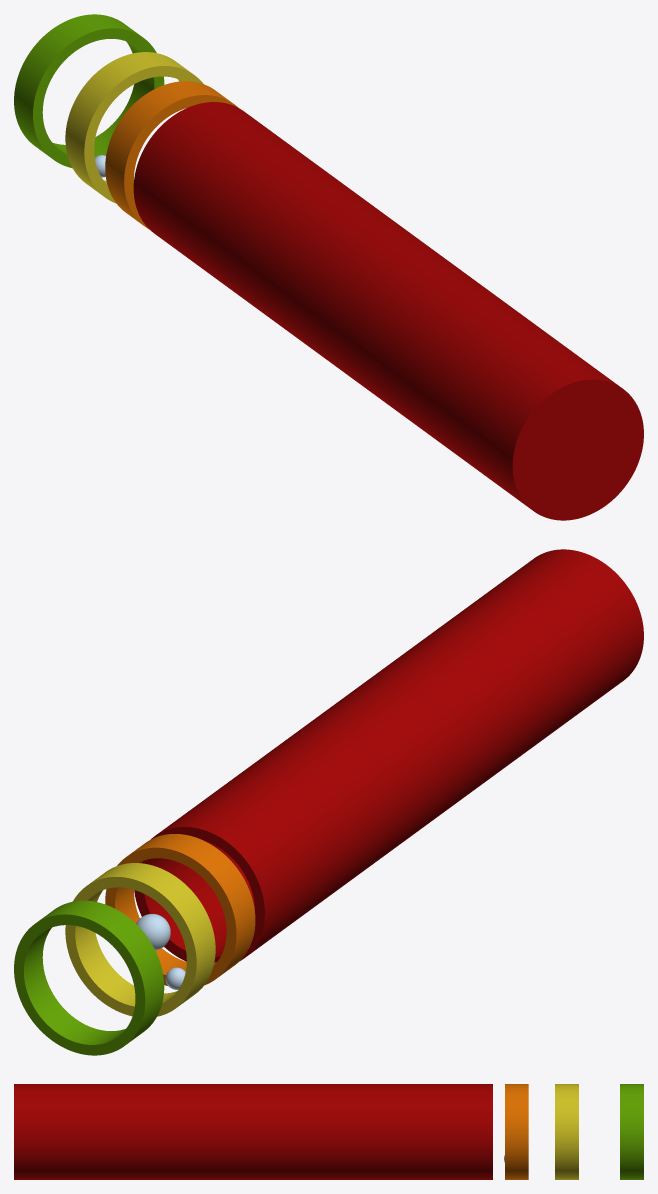
File: tunnel.gltf
The picture shows the model from 3 angles, top to bottom: view 1: azimuth 30°, elevation 25°; view 2: azimuth 150°, elevation 25°; view 3: azimuth 270°, elevation 25°; orthographic projection. The views are drawn at different scales.
Visible parts, largest first — view 1: tunnel; view 2: tunnel; view 3: tunnel.
Part boxes in pixels (bbox=[...]): tunnel: bbox=[14, 14, 643, 520]; tunnel: bbox=[14, 549, 643, 1055]; tunnel: bbox=[14, 1084, 643, 1179].
Size of the model in its own units: 2 by 2 by 13.16.
